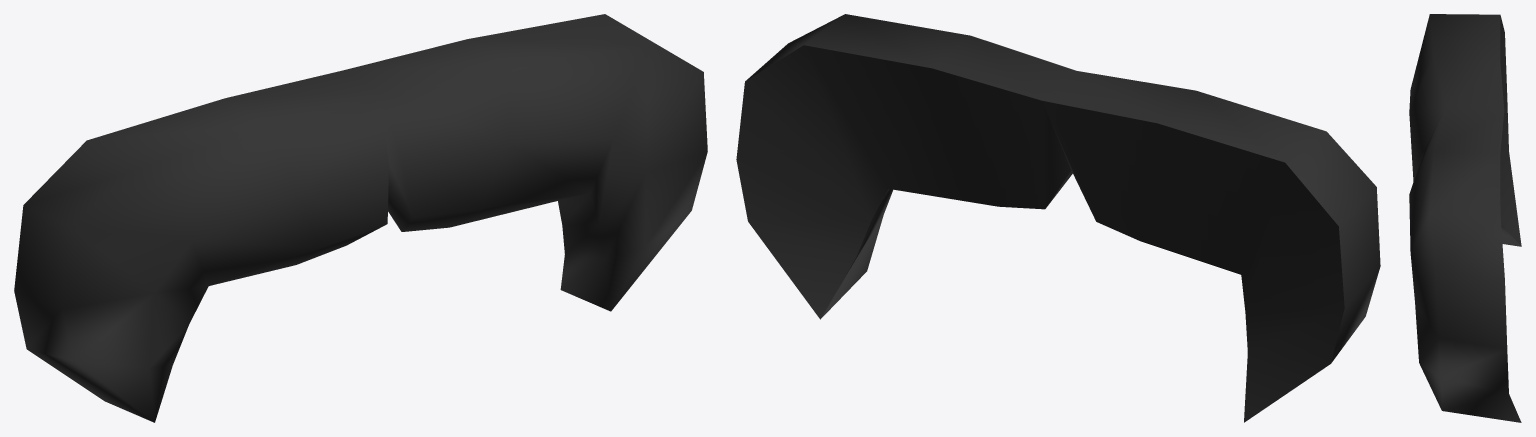
Rendered from Beard_Black_5.fbx.
3 renders of one model, left to right at view 1: azimuth 30°, elevation 25°; view 2: azimuth 150°, elevation 25°; view 3: azimuth 270°, elevation 25°, orthographic. The views are drawn at different scales.
Parts seen in each view (by area): view 1: Beard_Black_5; view 2: Beard_Black_5; view 3: Beard_Black_5.
Boxes of the visible parts, bbox=[...] form: Beard_Black_5: bbox=[14, 14, 707, 422]; Beard_Black_5: bbox=[736, 14, 1380, 422]; Beard_Black_5: bbox=[1409, 14, 1521, 422].
Size of the model in its own units: 30.33 by 12.89 by 5.69.
